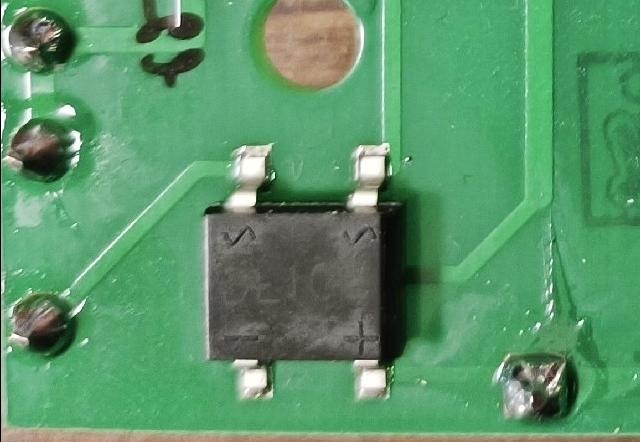ic: (198, 140, 406, 404)
